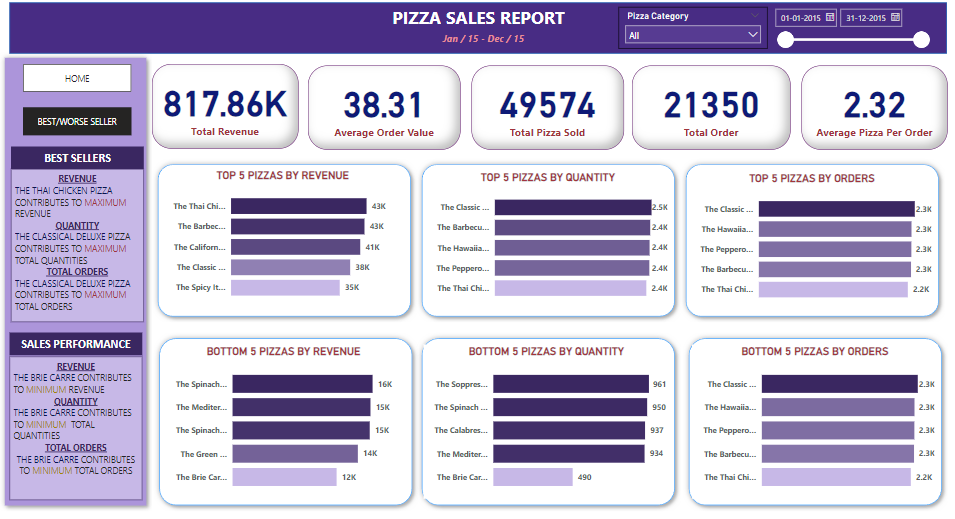

The page's visual inventory and layout, read from the dashboard file:
{"tool":"powerbi","page":{"name":"BEST/WORSE SELLER","canvas":[1500,820],"ordinal":1},"visuals":[{"type":"card","fields":{"Values":["pizza_sales.Total Revenue"]},"box":[237.5,112.5,227.1,131.2],"z":0},{"type":"card","fields":{"Values":["pizza_sales.Average Pizza Per Order"]},"box":[1244.2,113.5,226.9,130.8],"z":1000},{"type":"card","fields":{"Values":["pizza_sales.Average Order Value"]},"box":[478.8,113.5,236.5,130.8],"z":2000},{"type":"card","fields":{"Values":["pizza_sales.Total Pizza Sold"]},"box":[732.7,113.5,236.5,130.8],"z":3000},{"type":"card","fields":{"Values":["pizza_sales.Total Order"]},"box":[982.7,113.5,246.2,130.8],"z":4000},{"type":"shape","box":[16.7,16.7,1454.2,79.2],"z":5000},{"type":"textbox","box":[603.8,15.4,292.3,51.9],"z":6000},{"type":"textbox","box":[667.3,55.8,167.3,38.5],"z":7000},{"type":"shape","box":[237.5,258.3,410.4,254.2],"z":8000},{"type":"shape","box":[0,93.8,237.5,712.5],"z":9000},{"type":"textbox","box":[18.8,239.6,206.2,35.4],"z":10000},{"type":"textbox","box":[18.8,275,206.2,237.5],"z":11000},{"type":"textbox","box":[16.7,529.2,206.2,35.4],"z":12000},{"type":"textbox","box":[16.7,564.6,206.2,222.9],"z":13000},{"type":"slicer","fields":{"Values":["pizza_sales.pizza_category"]},"box":[960.4,22.9,231.2,64.6],"z":14000},{"type":"slicer","fields":{"Values":["pizza_sales.order_date"]},"box":[1191.7,16.7,260.4,72.9],"z":15000},{"type":"shape","box":[645.8,258.3,410.4,254.2],"z":16000},{"type":"shape","box":[1056.2,258.3,410.4,254.2],"z":17000},{"type":"shape","box":[239.6,529.2,410.4,277.1],"z":18000},{"type":"shape","box":[645.8,529.2,410.4,277.1],"z":19000},{"type":"shape","box":[1060.4,529.2,410.4,277.1],"z":20000},{"type":"clusteredBarChart","title":"TOP 5 PIZZAS BY REVENUE","fields":{"Category":["pizza_sales.pizza_name"],"Y":["pizza_sales.Total Revenue"]},"box":[254.2,275,372.9,214.6],"z":21000},{"type":"clusteredBarChart","title":"BOTTOM 5 PIZZAS BY REVENUE","fields":{"Category":["pizza_sales.pizza_name"],"Y":["pizza_sales.Total Revenue"]},"box":[256.2,547.9,370.8,239.6],"z":22000},{"type":"clusteredBarChart","title":"TOP 5 PIZZAS BY QUANTITY","fields":{"Category":["pizza_sales.pizza_name"],"Y":["pizza_sales.Total Pizza Sold"]},"box":[660.4,277.1,381.2,212.5],"z":23000},{"type":"clusteredBarChart","title":"BOTTOM 5 PIZZAS BY QUANTITY","fields":{"Category":["pizza_sales.pizza_name"],"Y":["pizza_sales.Total Pizza Sold"]},"box":[658.3,547.9,381.2,239.6],"z":24000},{"type":"clusteredBarChart","title":"TOP 5 PIZZAS BY ORDERS","fields":{"Category":["pizza_sales.pizza_name"],"Y":["pizza_sales.Total Order"]},"box":[1070.8,279.2,381.2,212.5],"z":25000},{"type":"clusteredBarChart","title":"BOTTOM 5 PIZZAS BY ORDERS","fields":{"Category":["pizza_sales.pizza_name"],"Y":["pizza_sales.Total Order"]},"box":[1075,547.9,381.2,239.6],"z":26000},{"type":"pageNavigator","box":[37.5,112.5,168.8,43.8],"z":27000},{"type":"pageNavigator","box":[37.5,179.2,168.8,43.8],"z":28000}]}

Visuals, with their boxes in screenshot pixels (x1, y1, x2, y2), scaled from the page's 1500x820 canvas onto the 955x519 screenshot:
card - pizza_sales.Total Revenue: <region>151, 71, 296, 154</region>
card - pizza_sales.Average Pizza Per Order: <region>792, 72, 937, 155</region>
card - pizza_sales.Average Order Value: <region>305, 72, 455, 155</region>
card - pizza_sales.Total Pizza Sold: <region>466, 72, 617, 155</region>
card - pizza_sales.Total Order: <region>626, 72, 782, 155</region>
shape: <region>11, 11, 936, 61</region>
textbox: <region>384, 10, 571, 43</region>
textbox: <region>425, 35, 531, 60</region>
shape: <region>151, 163, 412, 324</region>
shape: <region>0, 59, 151, 510</region>
textbox: <region>12, 152, 143, 174</region>
textbox: <region>12, 174, 143, 324</region>
textbox: <region>11, 335, 142, 357</region>
textbox: <region>11, 357, 142, 498</region>
slicer - pizza_sales.pizza_category: <region>611, 14, 759, 55</region>
slicer - pizza_sales.order_date: <region>759, 11, 925, 57</region>
shape: <region>411, 163, 672, 324</region>
shape: <region>672, 163, 934, 324</region>
shape: <region>153, 335, 414, 510</region>
shape: <region>411, 335, 672, 510</region>
shape: <region>675, 335, 936, 510</region>
"TOP 5 PIZZAS BY REVENUE" clusteredBarChart: <region>162, 174, 399, 310</region>
"BOTTOM 5 PIZZAS BY REVENUE" clusteredBarChart: <region>163, 347, 399, 498</region>
"TOP 5 PIZZAS BY QUANTITY" clusteredBarChart: <region>420, 175, 663, 310</region>
"BOTTOM 5 PIZZAS BY QUANTITY" clusteredBarChart: <region>419, 347, 662, 498</region>
"TOP 5 PIZZAS BY ORDERS" clusteredBarChart: <region>682, 177, 924, 311</region>
"BOTTOM 5 PIZZAS BY ORDERS" clusteredBarChart: <region>684, 347, 927, 498</region>
pageNavigator: <region>24, 71, 131, 99</region>
pageNavigator: <region>24, 113, 131, 141</region>
